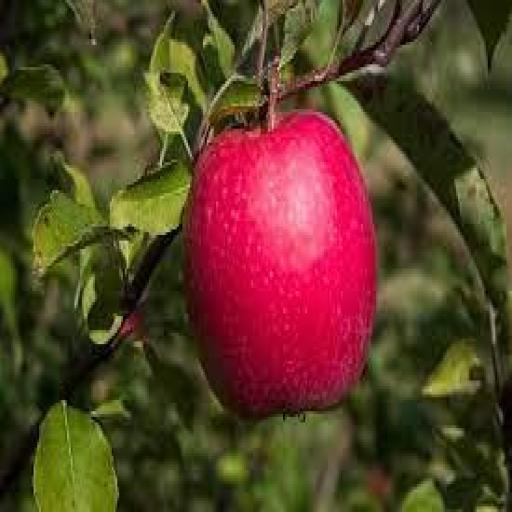apple: (185, 112, 376, 419)
